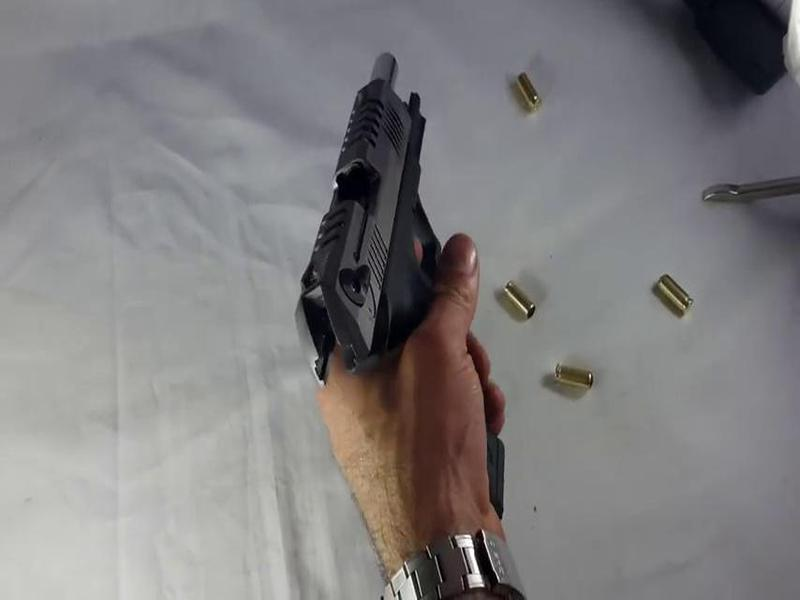Pistola: (263, 49, 544, 499)
